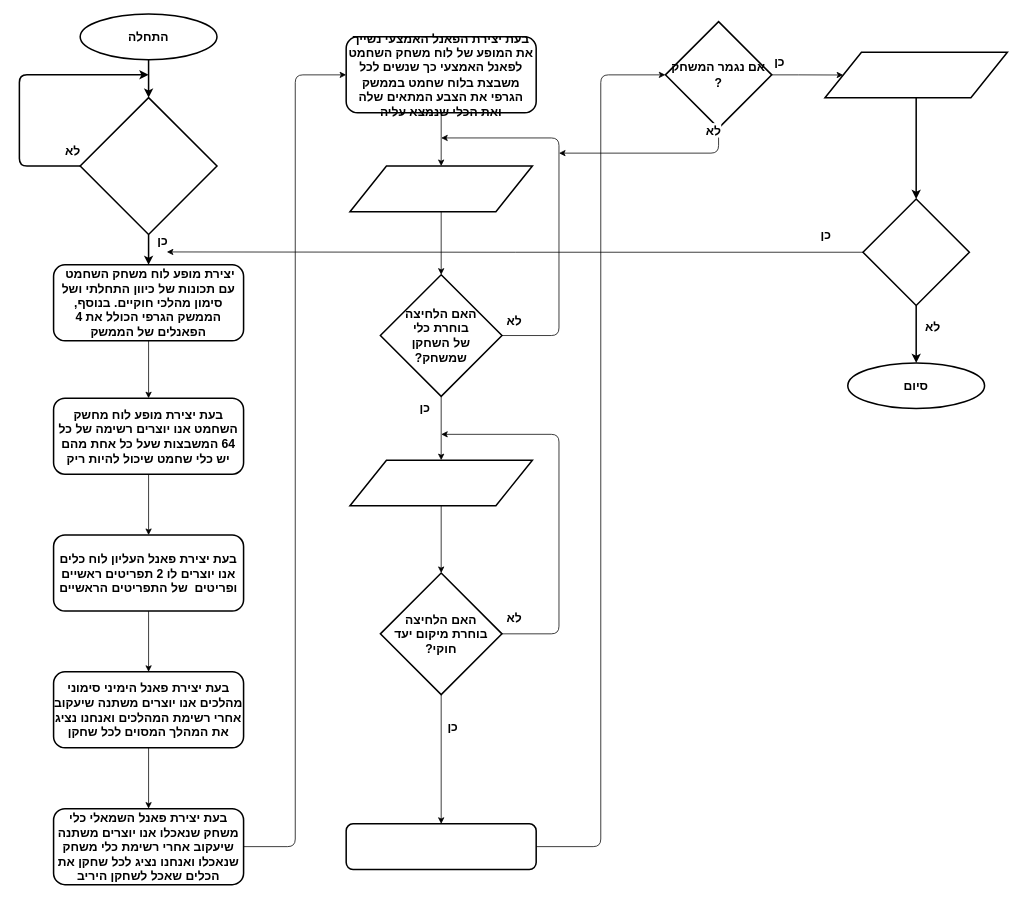
Some shapes in this 1021 by 898 pixel diagram are drawn without their labels. Here are the shapes that lost their labels. From the top down, the centre of each, then its label:
At point (916, 74): "הצגת מצב המשחק".
At point (148, 166): "אם שני השחקנים מחוברים דרך התוכנה ?".
At point (441, 188): "לחיצה ראשונה".
At point (916, 252): "אם לשחק שוב ?".
At point (441, 482): "לחיצה שנייה".
At point (441, 846): "ביצוע המהלך".
